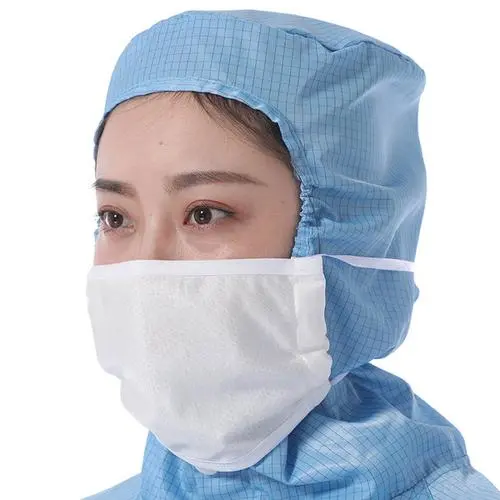withmask: (65, 2, 443, 481)
